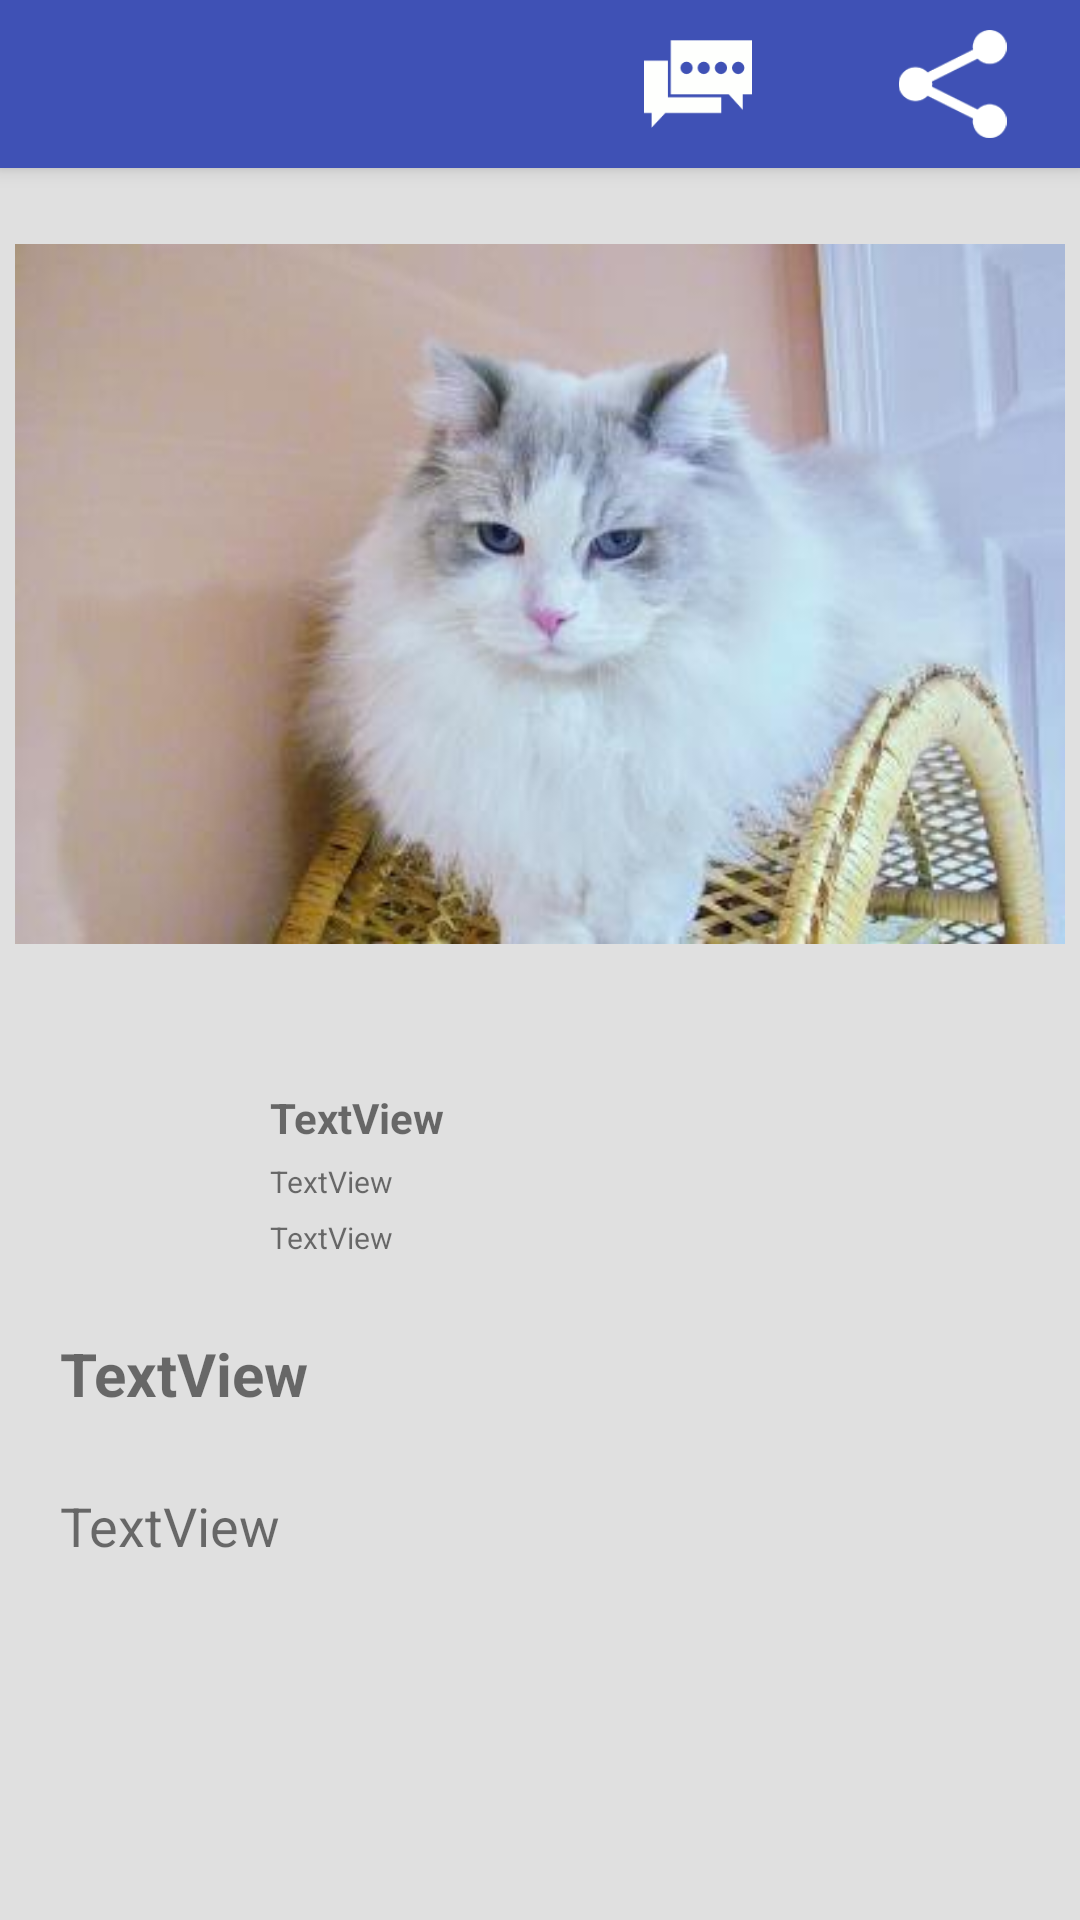

Screen size 1080px×1920px. Icon name, then its center in pixels as (x,y):
comment: (698,84)
share: (953,84)
